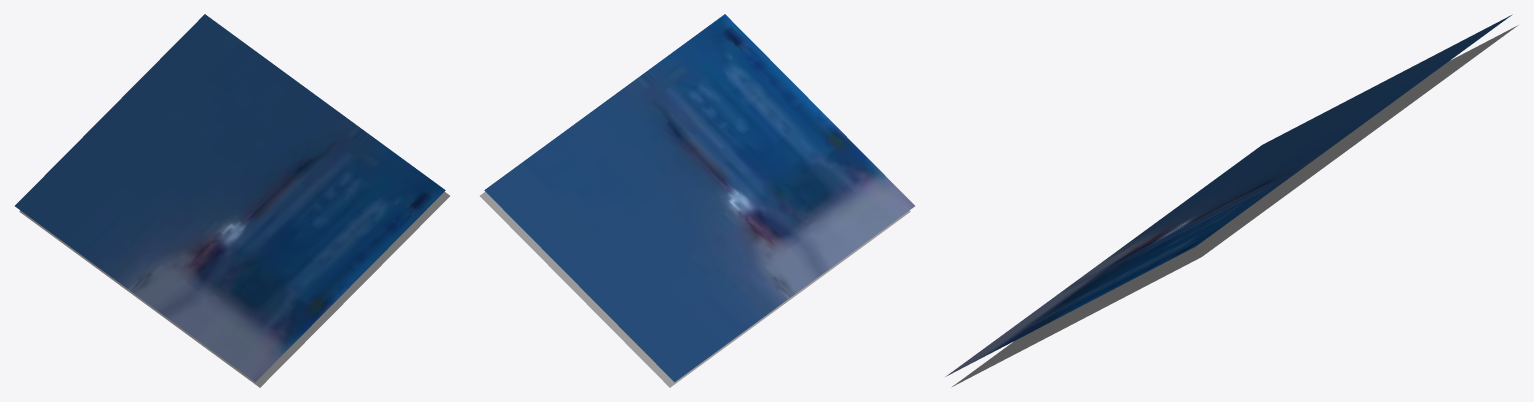
File: sign_8.glb
The picture shows the model from 3 angles, left to right: view 1: azimuth 30°, elevation 25°; view 2: azimuth 150°, elevation 25°; view 3: azimuth 330°, elevation 25°; orthographic projection. The views are drawn at different scales.
Parts seen in each view (by area): view 1: sign_8; view 2: sign_8; view 3: sign_8.
Part boxes in pixels (x1,y1,x2,y2): sign_8: (15,14,449,387); sign_8: (480,14,914,387); sign_8: (945,14,1518,387).
Size of the model in its own units: 0.0217 by 0.0162 by 0.0465.
Materials: 2 (1 with a texture image).
